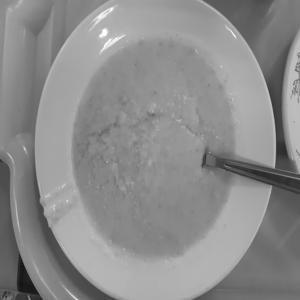porridge: (59, 16, 250, 277)
